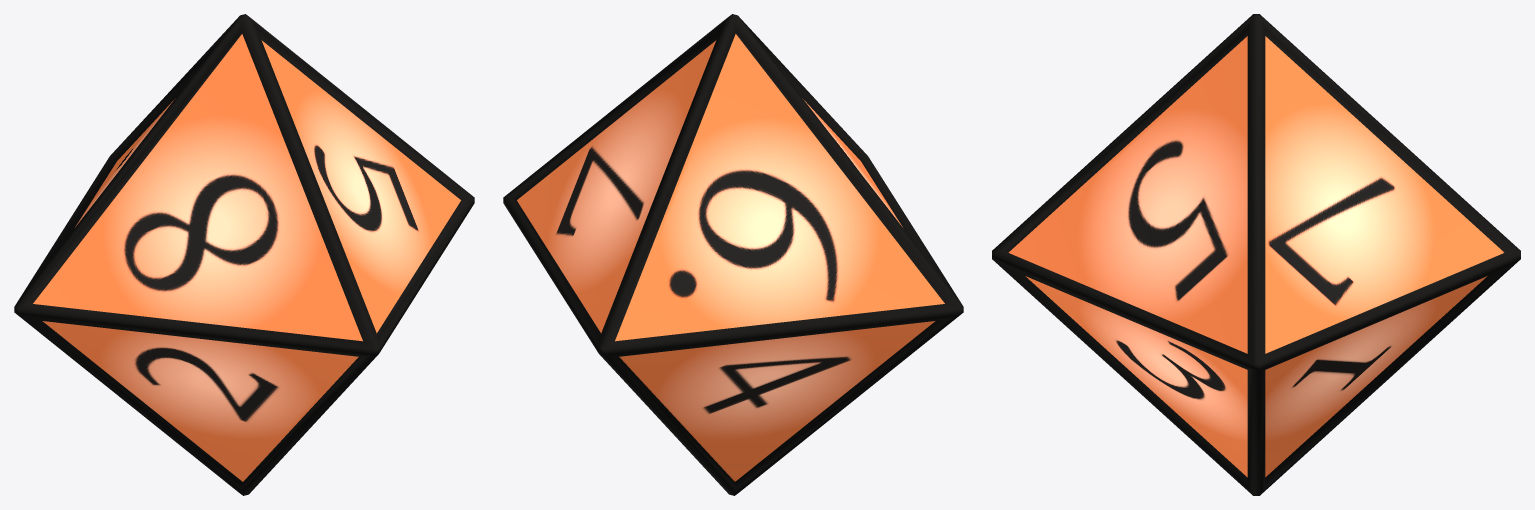
The model's file is crucible_d8.glb.
The picture shows the model from 3 angles, left to right: view 1: azimuth 30°, elevation 25°; view 2: azimuth 150°, elevation 25°; view 3: azimuth 270°, elevation 25°; orthographic projection.
Parts seen in each view (by area): view 1: Mesh_0; view 2: Mesh_0; view 3: Mesh_0.
Boxes of the visible parts, x1=… form: Mesh_0: x1=14, y1=14, x2=474, y2=495; Mesh_0: x1=503, y1=14, x2=963, y2=495; Mesh_0: x1=992, y1=14, x2=1520, y2=495.
Bounding box in the file's own units: 196 × 196 × 196.
Materials: 1 (1 with a texture image).
